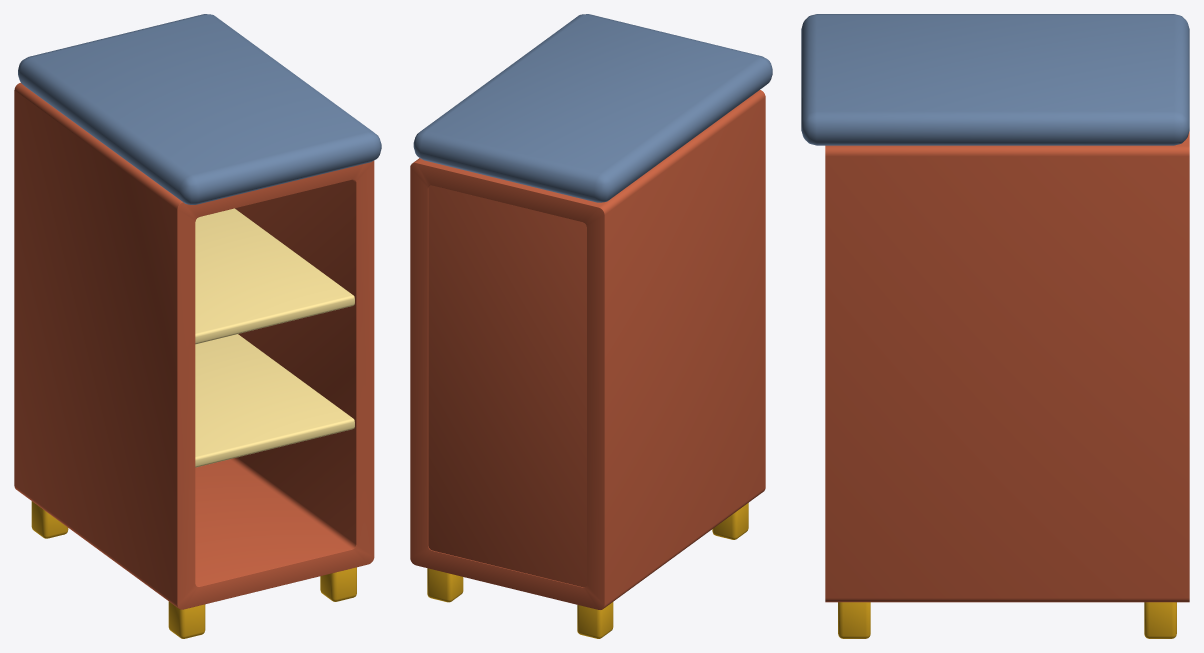
The model's file is nicho_cozinha_classica.glb.
The picture shows the model from 3 angles, left to right: view 1: azimuth 30°, elevation 25°; view 2: azimuth 150°, elevation 25°; view 3: azimuth 270°, elevation 25°; orthographic projection. The views are drawn at different scales.
Parts seen in each view (by area): view 1: nicho_cozinha_classica; view 2: nicho_cozinha_classica; view 3: nicho_cozinha_classica.
Boxes of the visible parts, bbox=[...] form: nicho_cozinha_classica: bbox=[14, 14, 381, 638]; nicho_cozinha_classica: bbox=[410, 14, 772, 638]; nicho_cozinha_classica: bbox=[801, 14, 1189, 638].
Bounding box in the file's own units: 0.398 × 0.9 × 0.599.
1 material, 1 textured.
